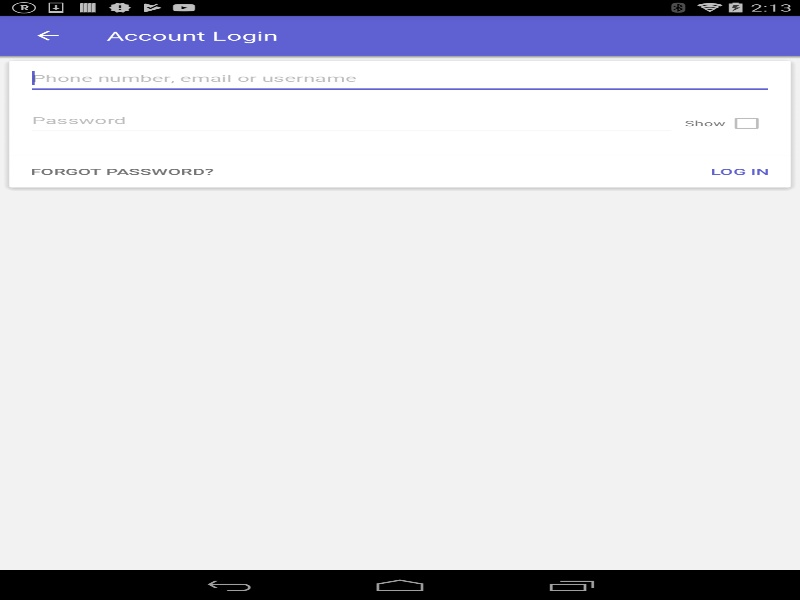Button: (10, 15, 85, 55)
Input: (26, 65, 773, 94), (26, 107, 676, 136)
